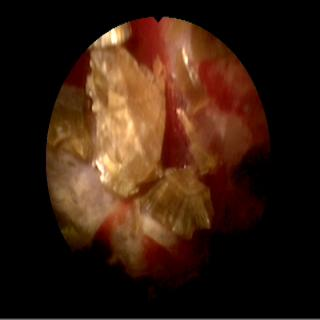stone: (87, 26, 164, 197), (143, 169, 213, 237), (49, 86, 92, 163), (177, 109, 217, 173), (176, 48, 207, 112)
